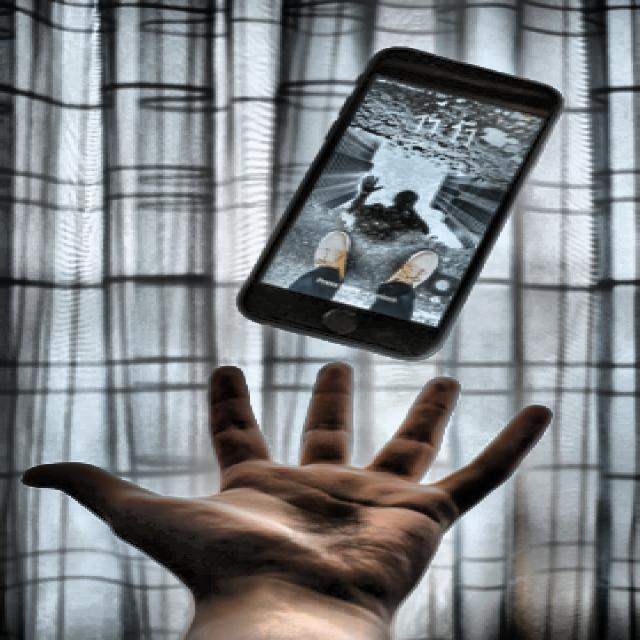Phone: (237, 46, 563, 360)
